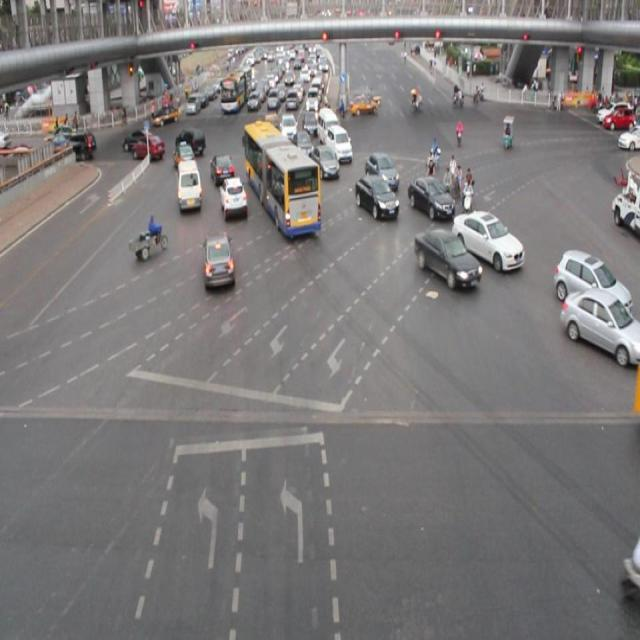BigCar: (244, 137, 318, 242)
car: (561, 292, 636, 374), (414, 226, 474, 302), (468, 203, 526, 279), (354, 175, 395, 228), (411, 170, 450, 222), (174, 159, 205, 218), (204, 232, 236, 286), (121, 132, 162, 167), (219, 178, 248, 221), (348, 88, 381, 121), (210, 147, 236, 187), (603, 103, 634, 134), (320, 143, 339, 181)
